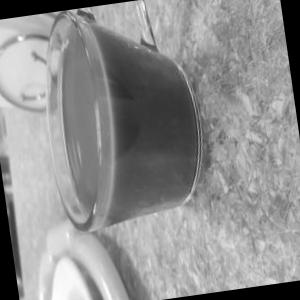coffee: (0, 0, 238, 247)
